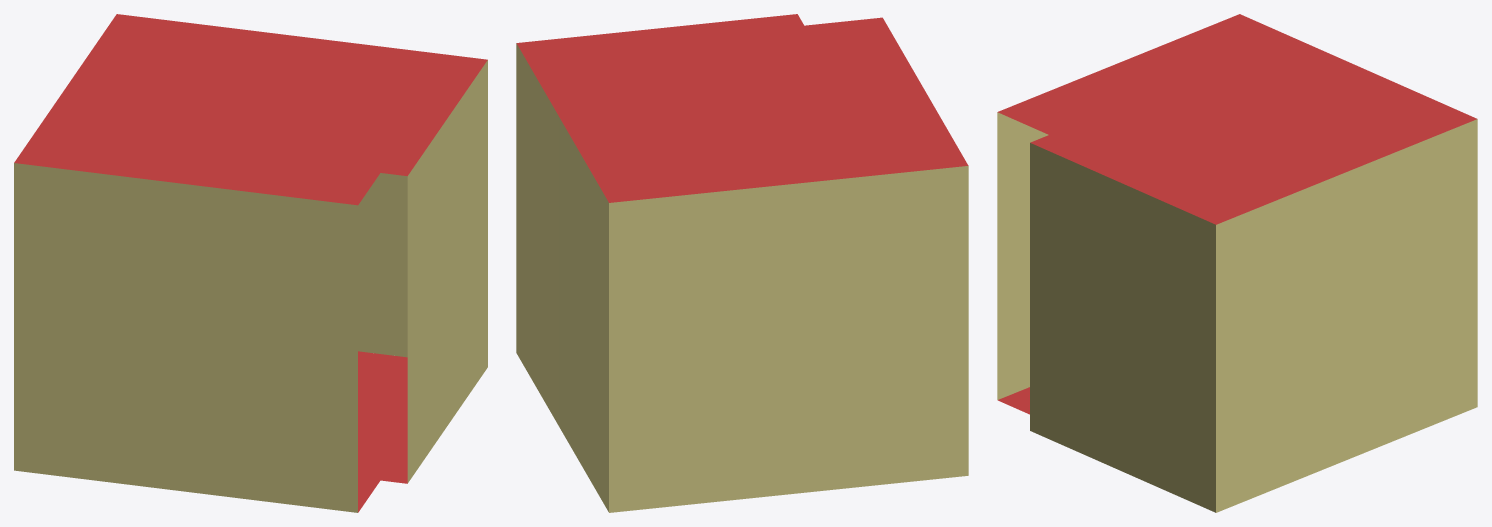
3 renders of one model, left to right at view 1: azimuth 30°, elevation 25°; view 2: azimuth 150°, elevation 25°; view 3: azimuth 270°, elevation 25°, orthographic. The views are drawn at different scales.
Parts seen in each view (by area): view 1: group_4, group_3, group_5; view 2: group_4, group_3; view 3: group_4, group_3.
Part boxes in pixels (x1,y1,x2,y2): group_4: (14, 60, 487, 512); group_3: (14, 14, 487, 205); group_5: (358, 351, 407, 512); group_4: (516, 43, 968, 512); group_3: (516, 14, 968, 202); group_4: (997, 112, 1477, 512); group_3: (997, 14, 1476, 224).
Size of the model in its own units: 9.53 by 9.18 by 6.07.
